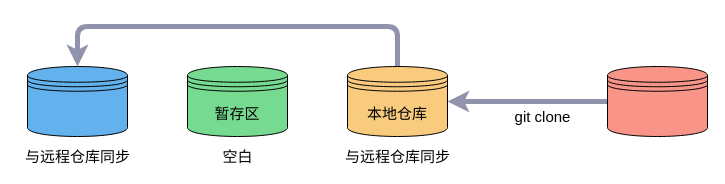
This 725x184 diagram has some shape labels left out. The shapes that lost their labels are listed below. From the top down, each one's centre as x and y in pixels, then its label:
At point 77,101: "工作区".
At point 657,101: "远程仓库".
